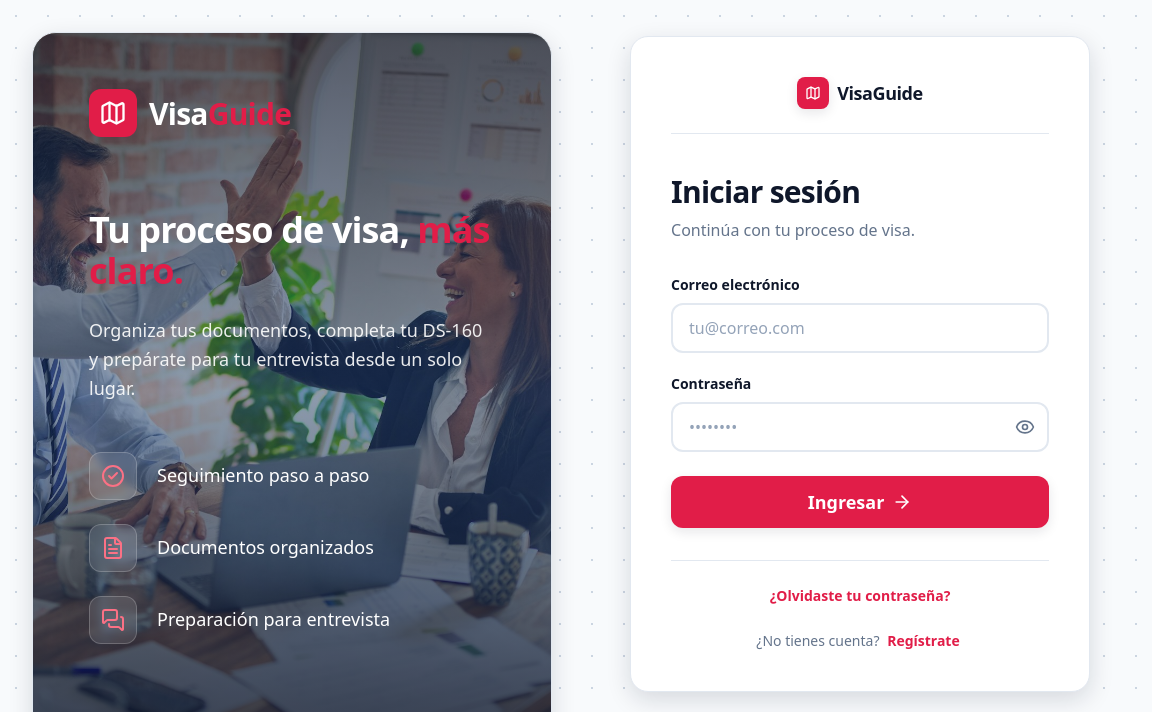
Scenario: pantallas de autenticación › renderiza el login y bloquea envíos con campos vacíos o correo inválido
The width and height of the screenshot is (1152, 712).
expect the field labelled "Correo electrónico" is shown: met, box [671,303,1049,353]
expect the password field labelled "Contraseña" is shown: met, box [671,402,1049,452]
Click the button "Ingresar": [860, 502] box [671,476,1049,528]
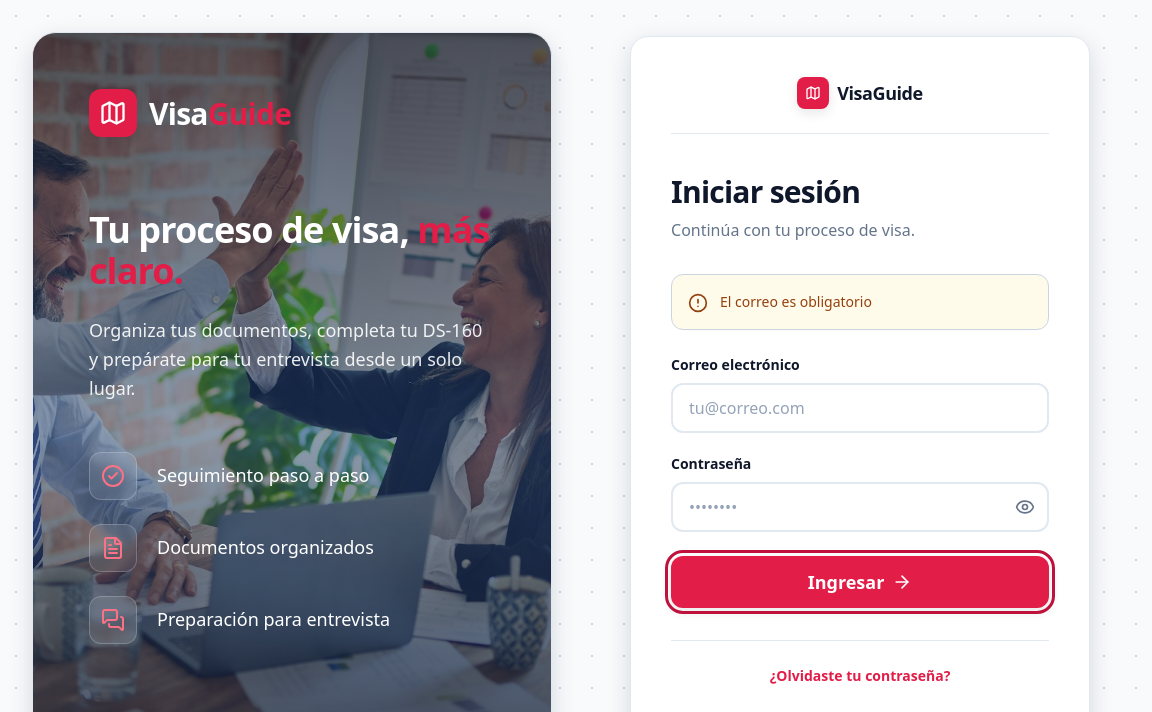
expect the message reads "El correo es obligatorio": met, box [720,292,872,311]
In the field labelled "Correo electrónico": [860, 408] box [671,383,1049,433], type "ana@dominio"
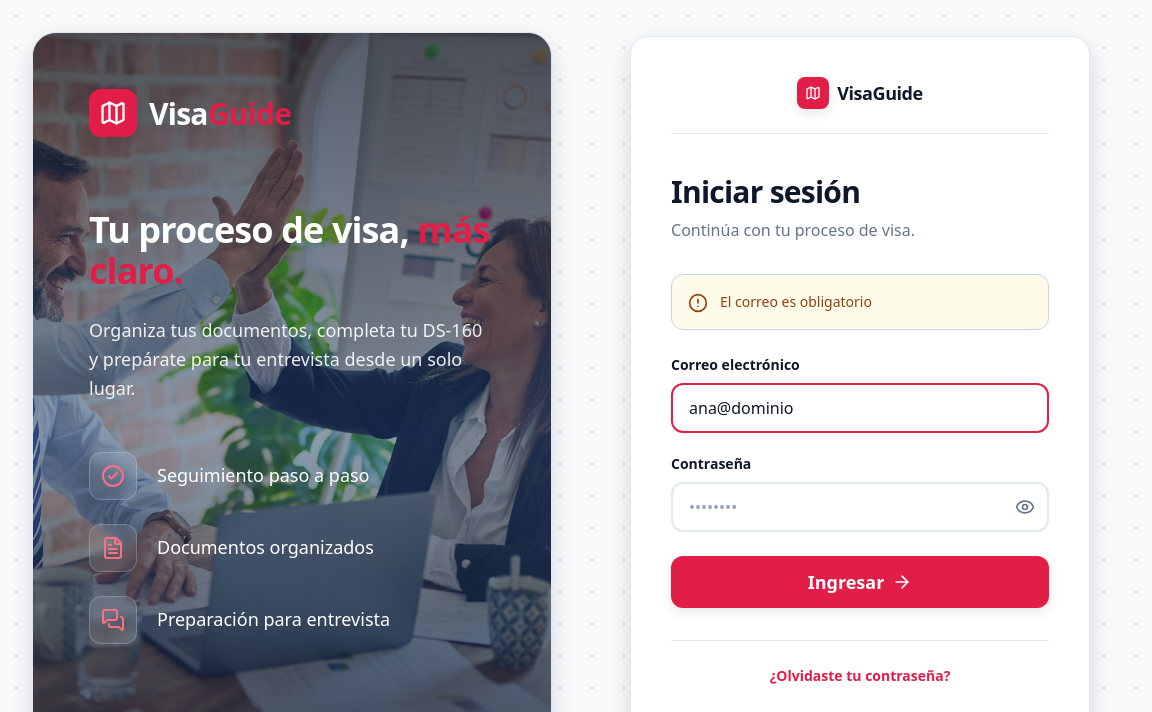
Click the button "Ingresar": [860, 582] box [671,556,1049,608]
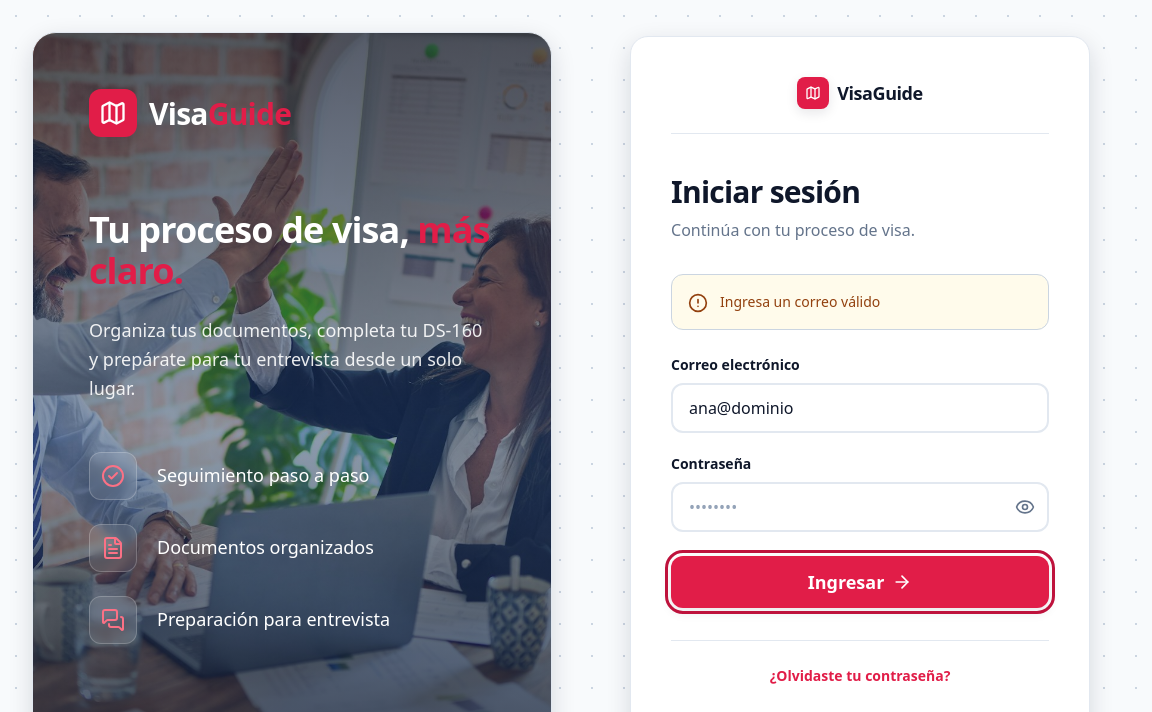
expect the message reads "Ingresa un correo válido": met, box [720,292,880,311]
Replace the text in the field labelled "Correo electrónico" with "persona@example.com": [860, 408] box [671,383,1049,433]
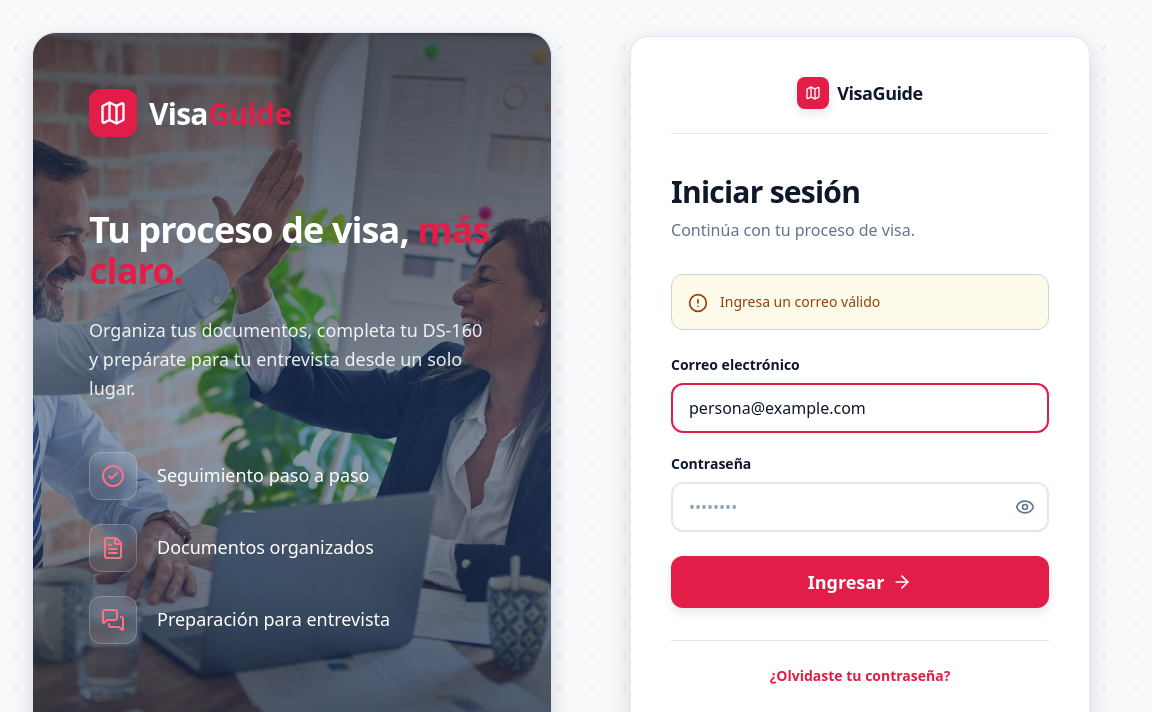
Click the button "Ingresar": [860, 582] box [671,556,1049,608]
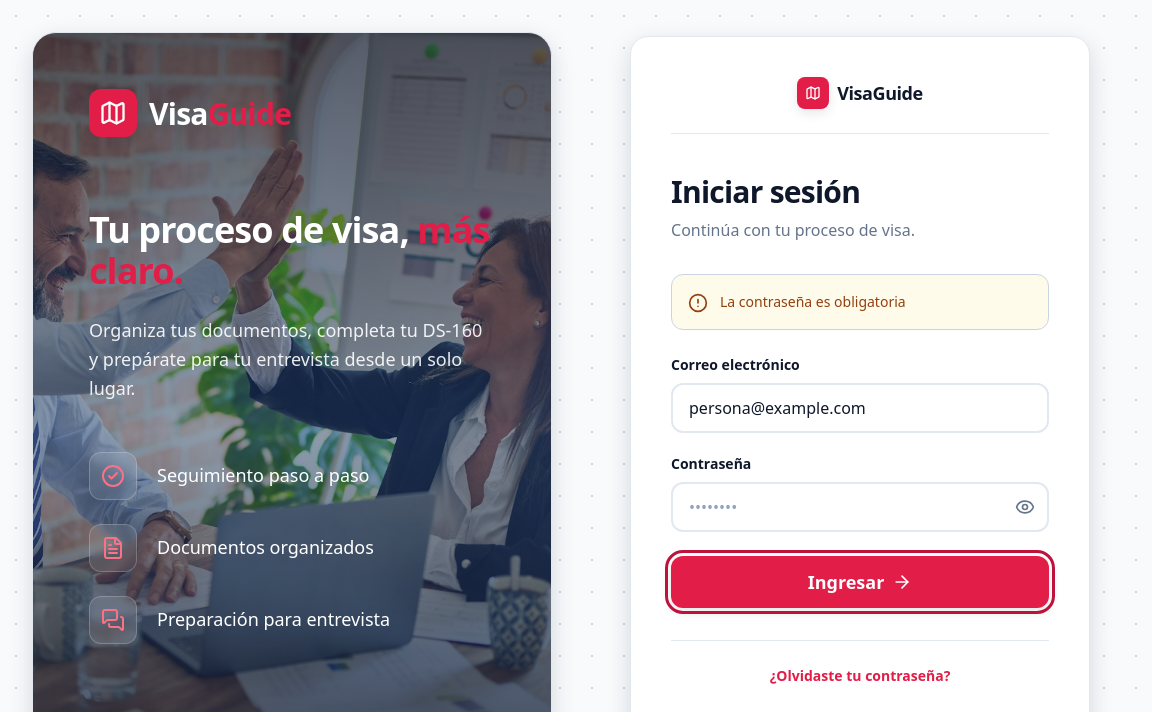
expect the message reads "La contraseña es obligatoria": met, box [720,292,906,311]
